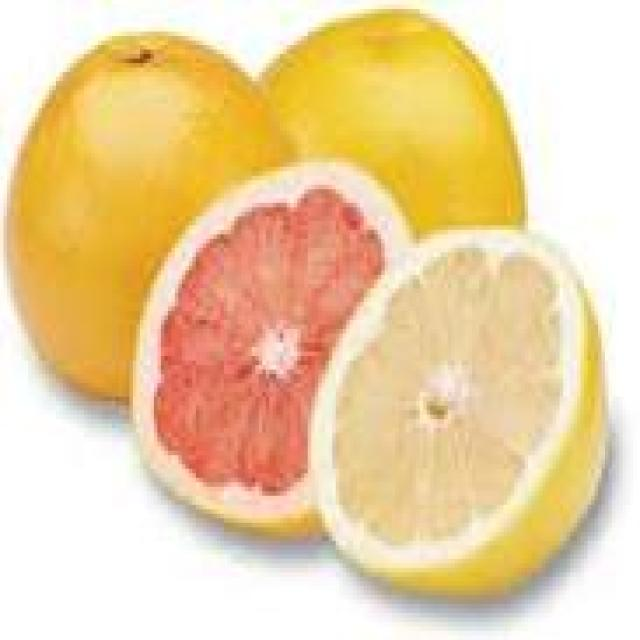greapefurit: (0, 0, 636, 599)
